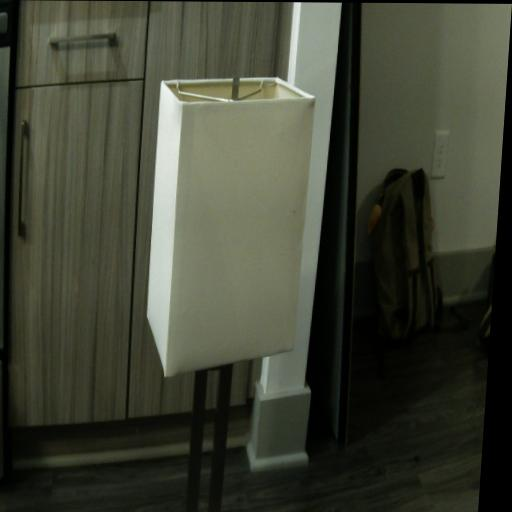lamp: (132, 75, 317, 512)
